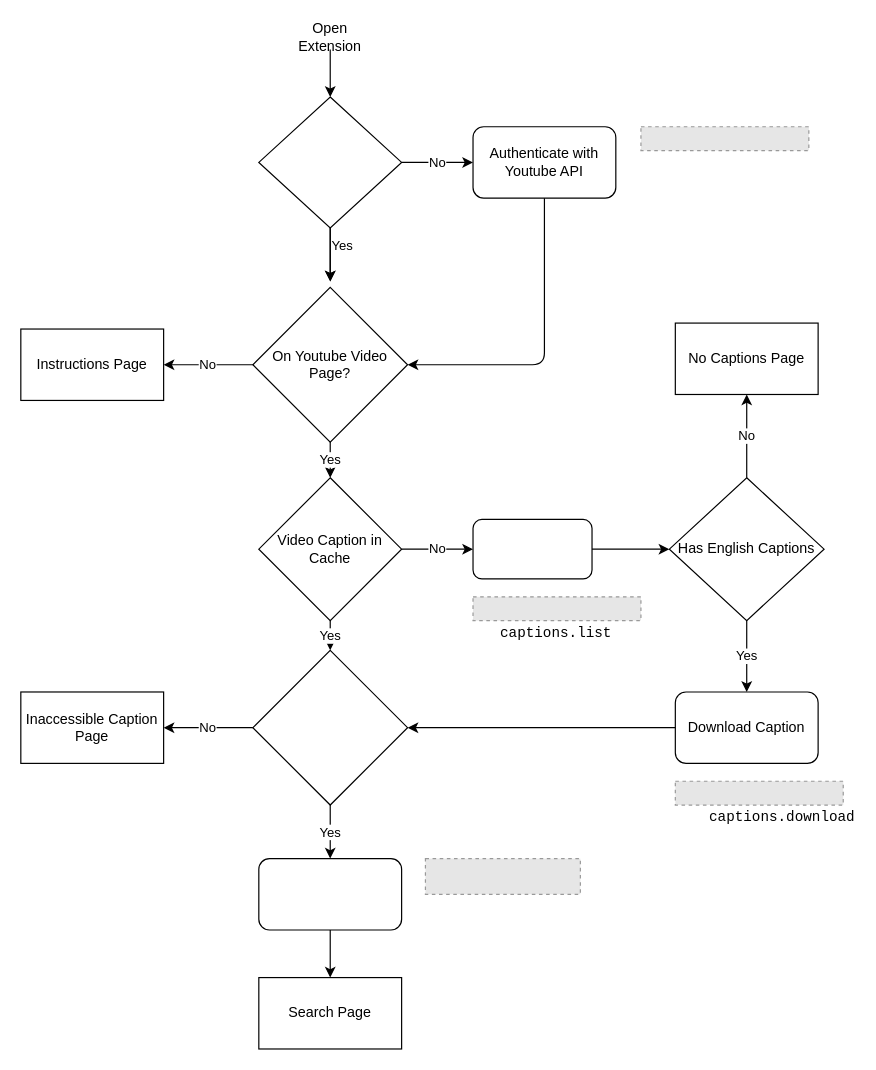
This 876x1070 diagram has some shape labels left out. Grey dashed boxes stand in for pictures. Here are the shapes that lost their labels. From the top down, the centre of each, then its label:
the point at 330,162: Is Authenticated?
the point at 532,548: Get Caption List
the point at 330,727: Caption accessible?
the point at 330,893: Build Search Index
